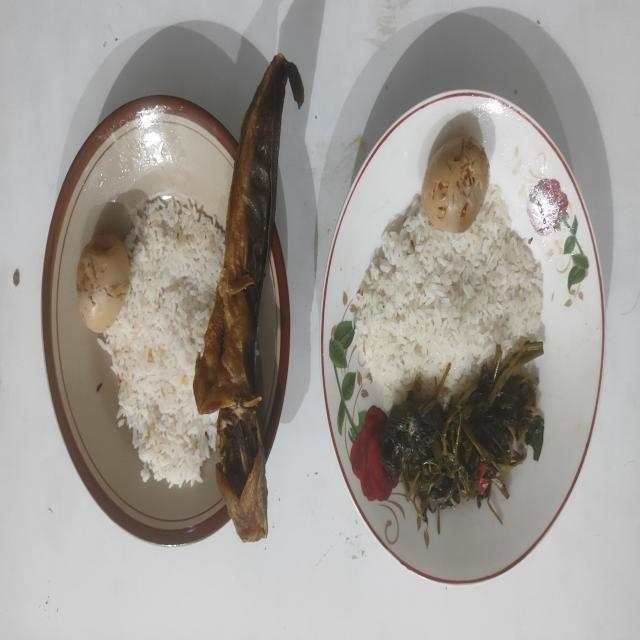nasi_putih: (356, 185, 544, 402), (98, 196, 225, 488)
tumis_kangkung: (381, 340, 544, 522)
